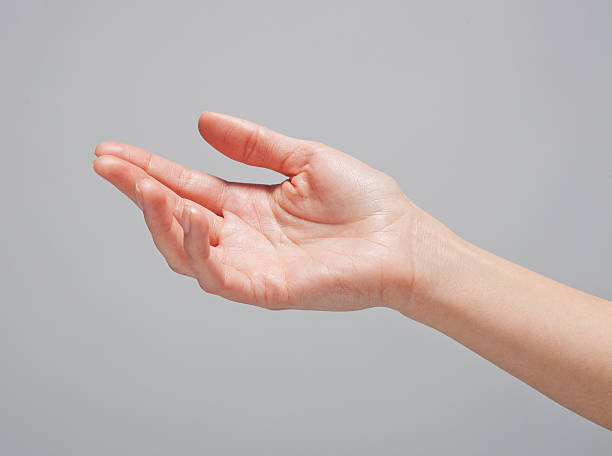hand: (67, 95, 428, 366)
